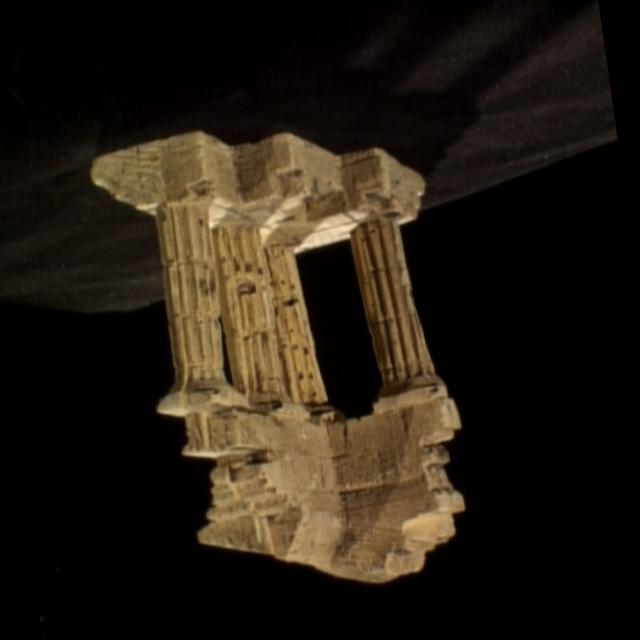Instance-Segmentation: (93, 134, 462, 583)
